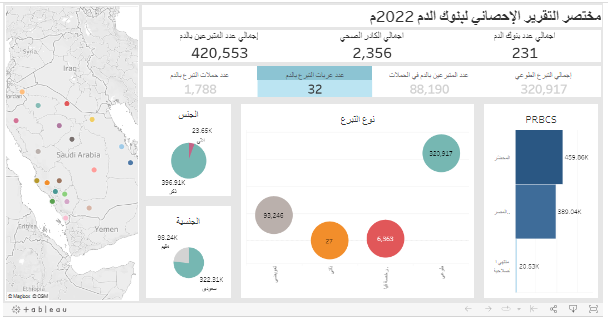

What the dashboard file says about the page in this screenshot:
{"tool":"tableau","page":{"name":"تقرير بنك الدم في المملكة 2022","canvas":[1200,1300],"ordinal":0},"visuals":[{"type":"filter","title":"خريطة","param":"[federated.0k9tpsz0huajs91e6mue71gbohsy].[none:المنطقة:nk]","box":[770.9,10.1,151.7,63.3]},{"type":"title","box":[307.8,25.9,449.1,83.4]},{"type":"worksheet","title":"خريطة","mark":"Automatic","box":[21,92,401,423]},{"type":"worksheet","title":"اجمالي المتبرعين","mark":"Automatic","box":[422.9,152.5,157.1,136.8]},{"type":"worksheet","title":"جنس المتبرعين","mark":"Pie","box":[837.6,179.2,219.7,415]},{"type":"worksheet","title":"جنسية المتبرعين","mark":"Pie","box":[612.8,196.5,227.9,380.4]},{"type":"worksheet","title":"اجمالي البنوك","mark":"Automatic","box":[422.9,298.7,160.1,190.2]},{"type":"worksheet","title":"اجمالي حملات التبرع","mark":"Automatic","box":[422.9,435.4,173.5,138.3]},{"type":"worksheet","title":"اجمالي التبرعات","mark":"Automatic","box":[17,533,586,264]},{"type":"worksheet","title":"نوع التبرع","mark":"Automatic","box":[639,564,453,232]},{"type":"worksheet","title":"نسبة المصروف","mark":"Text","box":[418,577,162,155]},{"type":"worksheet","title":"اجمالي عدد المركبات","mark":"Automatic","box":[731.9,808.2,244.3,226.4]},{"type":"worksheet","title":"تقرير بنوك الدم","mark":"Automatic","box":[18,818,585,302]},{"type":"worksheet","title":"متوسط الكادر الصحي على البنوك","mark":"Automatic","box":[364,884,245,170]}]}

Visuals, with their boxes on the page's 1200x1300 design canvas (x1, y1, x2, y2). These are canvas units, not pixel positions in the 608x319 screenshot, which may show the page scaled, cropped or inside an application window:
"خريطة" filter: bbox=[771, 10, 923, 73]
title: bbox=[308, 26, 757, 109]
"خريطة" worksheet: bbox=[21, 92, 422, 515]
"اجمالي المتبرعين" worksheet: bbox=[423, 152, 580, 289]
"جنس المتبرعين" worksheet (Pie marks): bbox=[838, 179, 1057, 594]
"جنسية المتبرعين" worksheet (Pie marks): bbox=[613, 196, 841, 577]
"اجمالي البنوك" worksheet: bbox=[423, 299, 583, 489]
"اجمالي حملات التبرع" worksheet: bbox=[423, 435, 596, 574]
"اجمالي التبرعات" worksheet: bbox=[17, 533, 603, 797]
"نوع التبرع" worksheet: bbox=[639, 564, 1092, 796]
"نسبة المصروف" worksheet (Text marks): bbox=[418, 577, 580, 732]
"اجمالي عدد المركبات" worksheet: bbox=[732, 808, 976, 1035]
"تقرير بنوك الدم" worksheet: bbox=[18, 818, 603, 1120]
"متوسط الكادر الصحي على البنوك" worksheet: bbox=[364, 884, 609, 1054]
